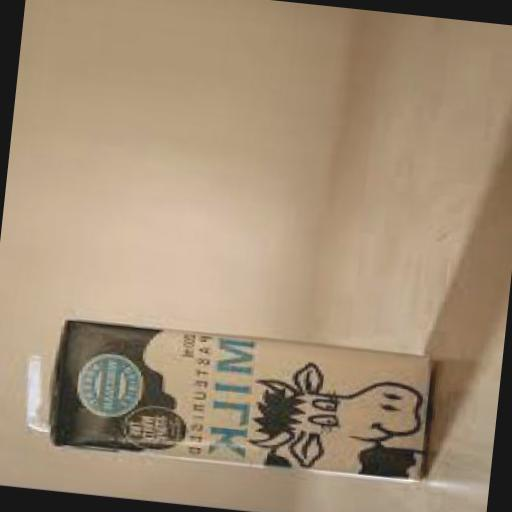cardboard: (46, 316, 436, 486)
paper: (18, 349, 50, 431)
